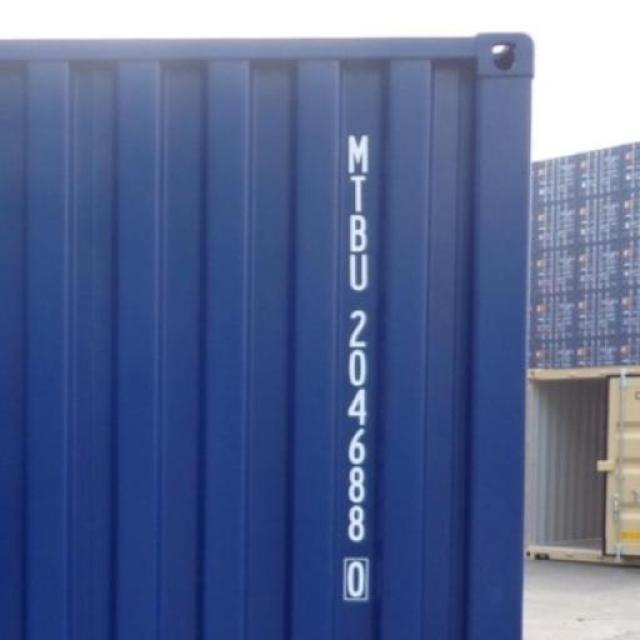container_number: (339, 123, 379, 614)
